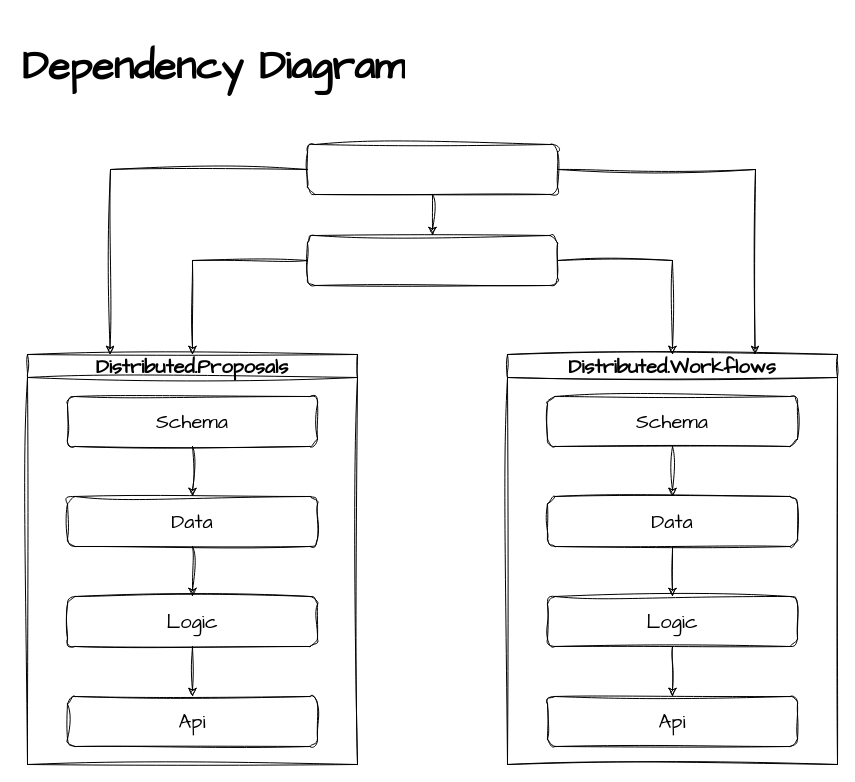
Image size: 855x782. Some labels were removed from this diagram. Here are the shapes that lost their labels. From the top down, the centre of each, then its label:
At [432,169]: "Distributed.Core".
At [432,260]: "Distributed.Contracts".
